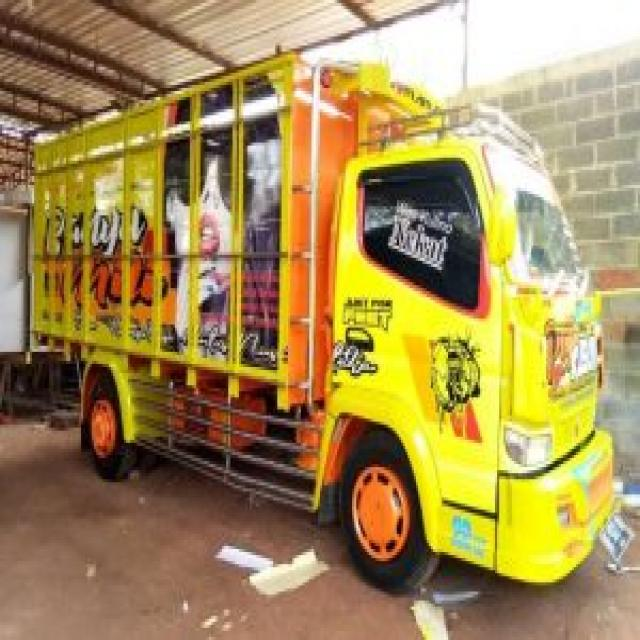truck: (24, 48, 618, 594)
